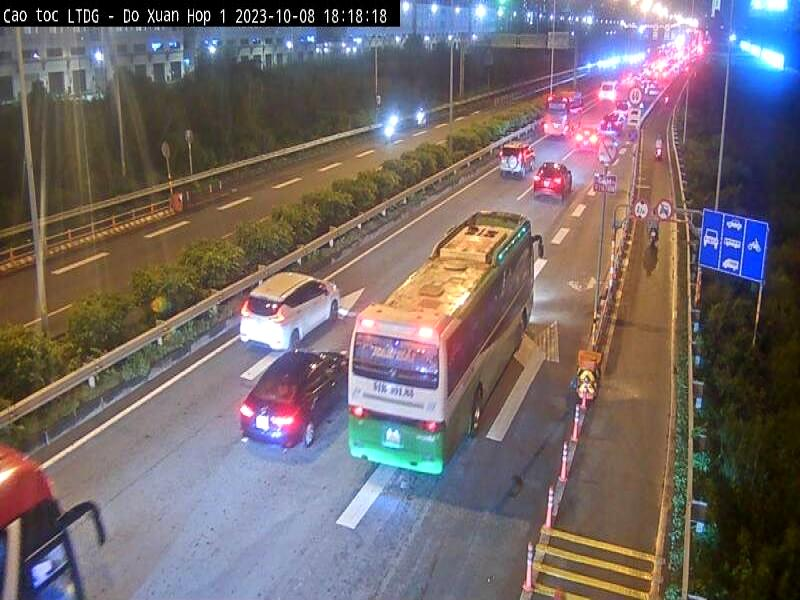bus: (346, 209, 536, 477), (0, 437, 115, 600), (546, 83, 582, 146)
car: (234, 345, 346, 467), (238, 263, 344, 352), (531, 158, 579, 206), (495, 142, 534, 189)
